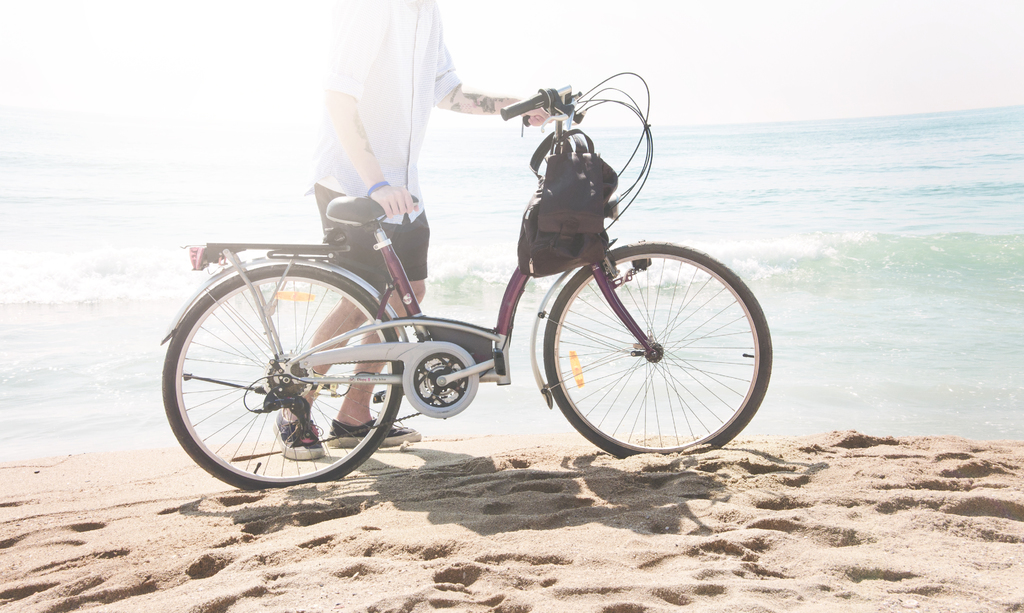Bike_toward: (148, 79, 786, 478)
